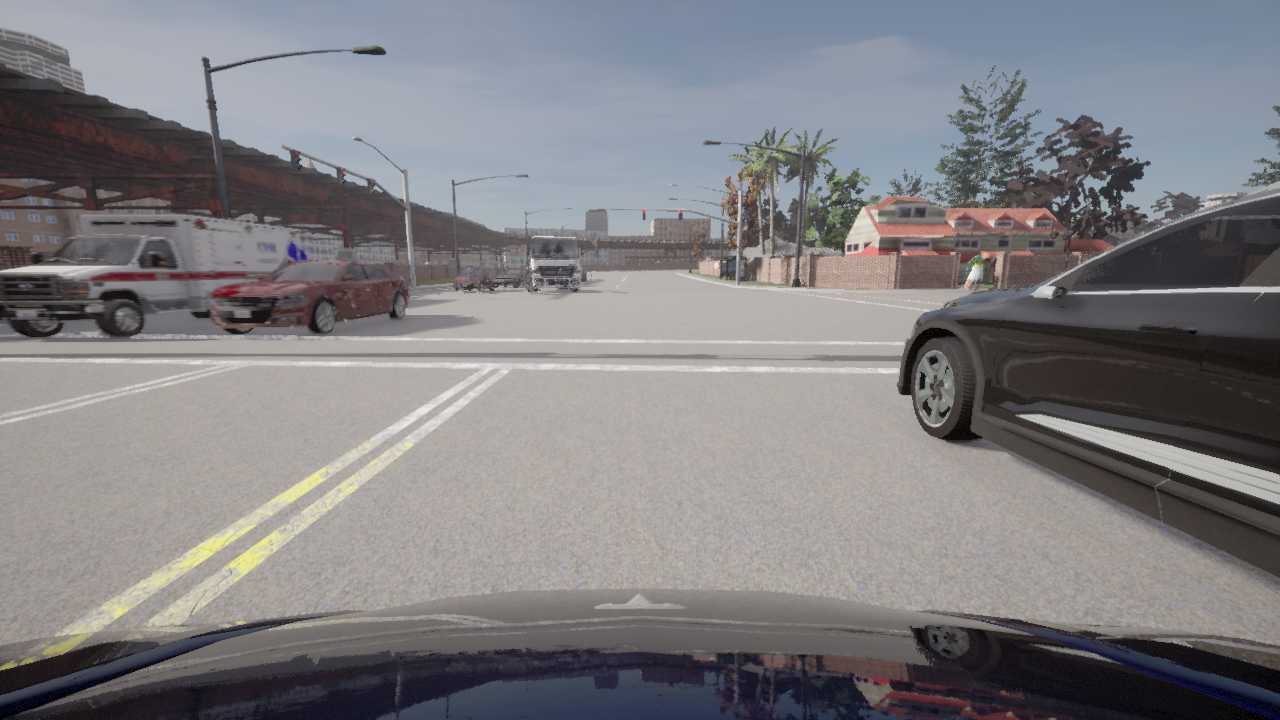cyclist: (0, 588, 1279, 719), (897, 181, 1279, 577), (0, 214, 312, 337), (211, 259, 410, 334), (525, 235, 583, 292), (454, 268, 494, 291), (494, 271, 525, 287), (580, 269, 585, 281)
pedestrian: (963, 251, 988, 294)
